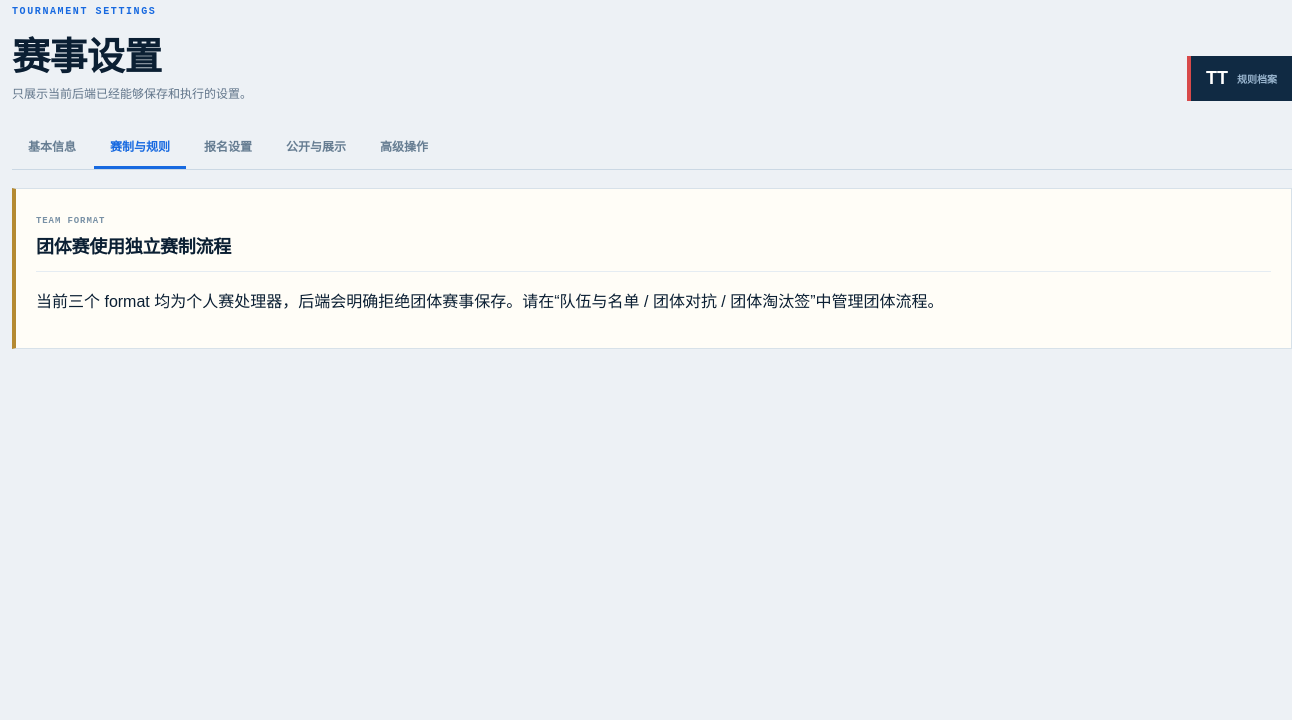
Test: 赛事设置真实契约 › TEAM 赛事报名开关保持只读，且历史开启标记可以保存清理
The width and height of the screenshot is (1292, 720).
Click the tab "报名设置" at (228, 147), box [188,125,268,169]
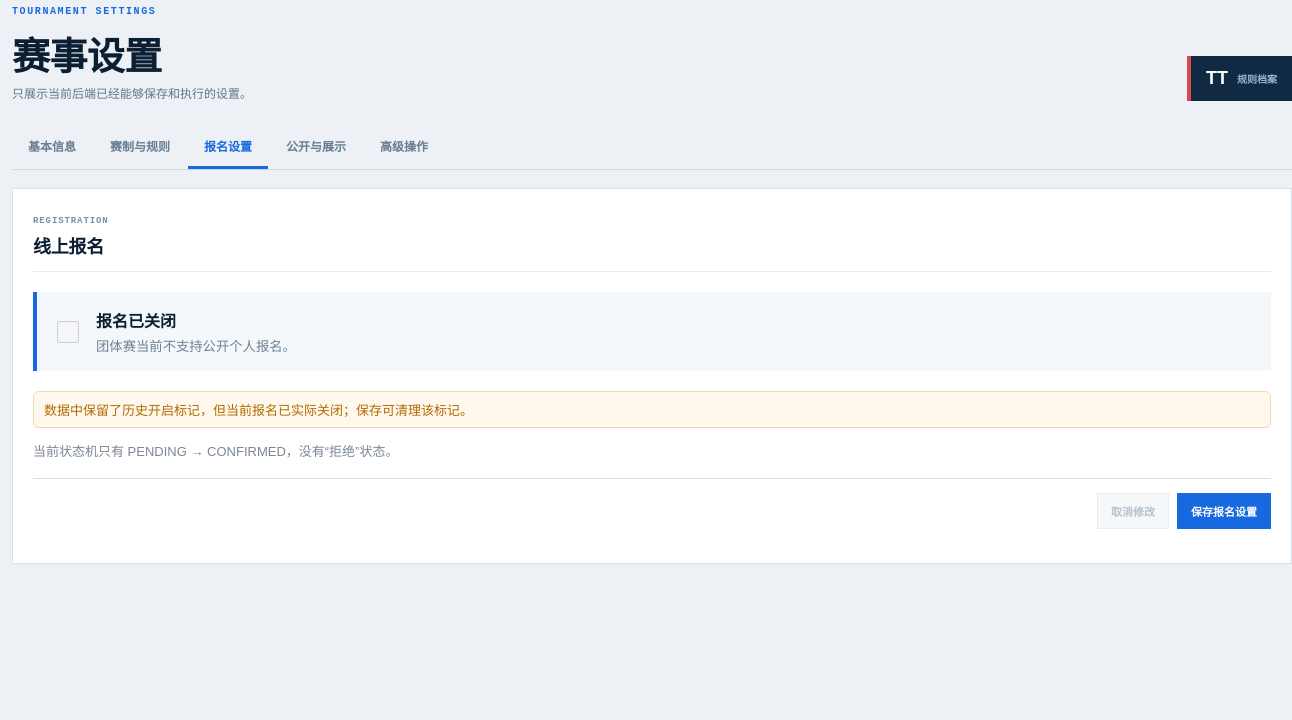
Result: the checkbox is not checked at [57,320,79,342]
Result: the checkbox is disabled at [57,320,79,342]
Result: the text "报名已关闭" is shown at [96,313,176,330]
Click the button "保存报名设置" at (1224, 511), box [1177,493,1271,529]
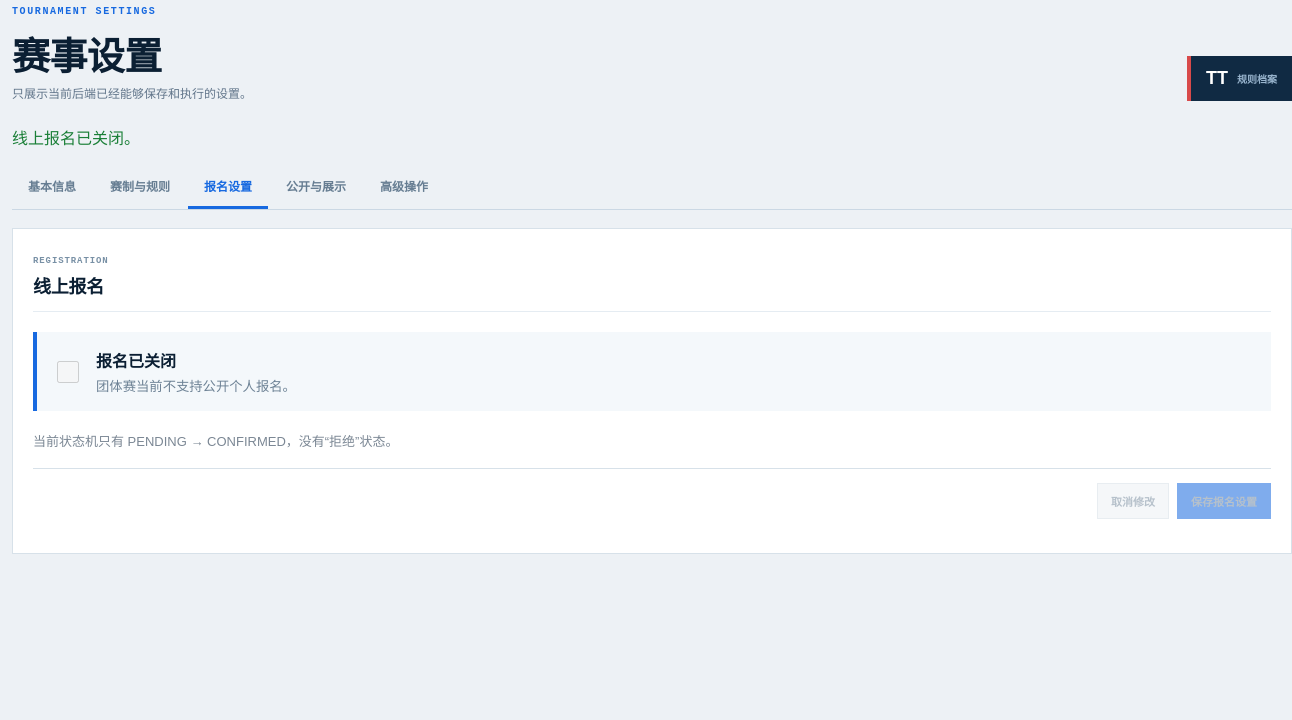
Result: the text "线上报名已关闭。" is shown at [12,130,140,147]
Result: the text "历史开启标记" is gone
